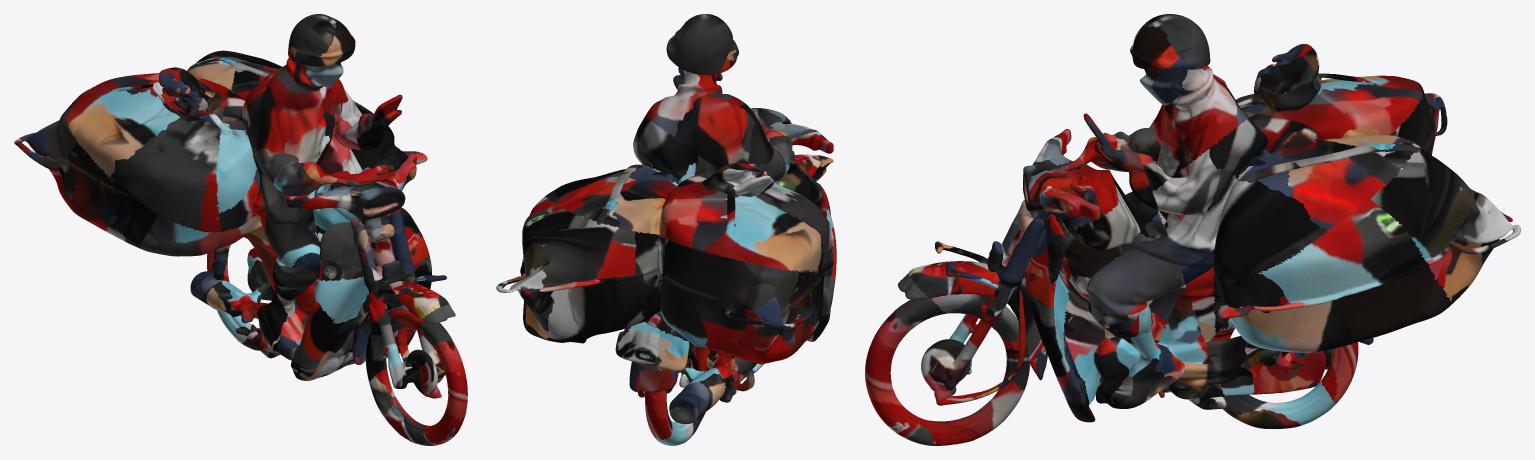
3 views of the same model, side by side, from view 1: azimuth 30°, elevation 25°; view 2: azimuth 150°, elevation 25°; view 3: azimuth 270°, elevation 25° (orthographic). The views are drawn at different scales.
Visible parts, largest first — view 1: tripo_node_8aa4e5ce-5827-4776-acfb-8d7959a98e14; view 2: tripo_node_8aa4e5ce-5827-4776-acfb-8d7959a98e14; view 3: tripo_node_8aa4e5ce-5827-4776-acfb-8d7959a98e14.
Boxes of the visible parts, <box> form: tripo_node_8aa4e5ce-5827-4776-acfb-8d7959a98e14: <box>14,14,467,445</box>; tripo_node_8aa4e5ce-5827-4776-acfb-8d7959a98e14: <box>496,14,836,445</box>; tripo_node_8aa4e5ce-5827-4776-acfb-8d7959a98e14: <box>865,14,1520,445</box>.
Size of the model in its own units: 68.08 by 71.14 by 100.
